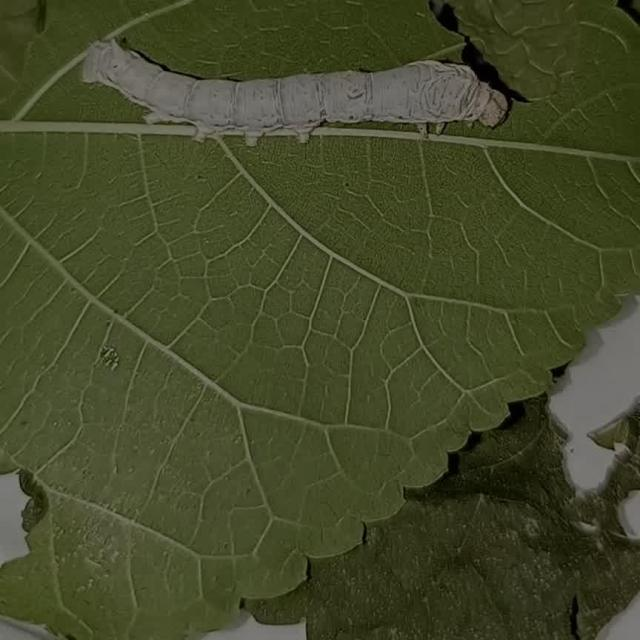Healthy: (77, 15, 517, 160)
